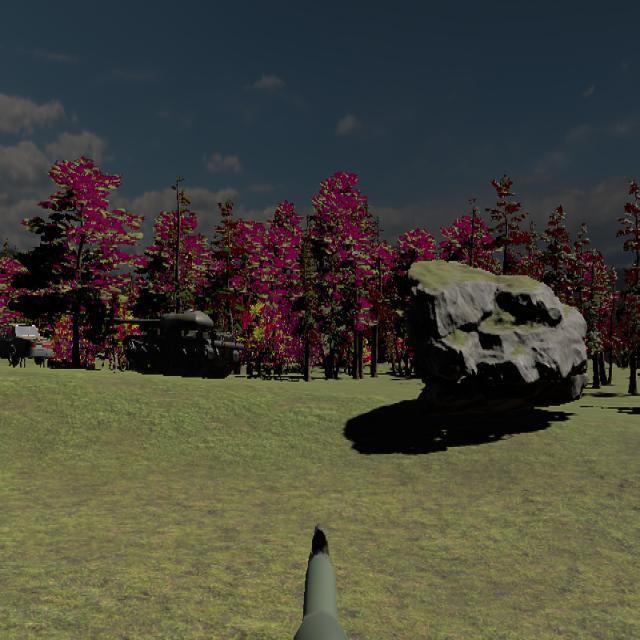Tank: (107, 308, 245, 377)
car: (0, 322, 54, 366)
